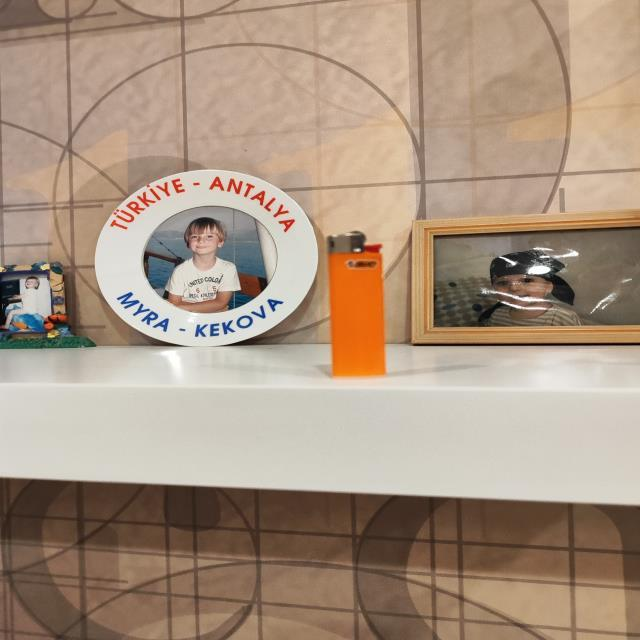lighter: (328, 231, 385, 375)
